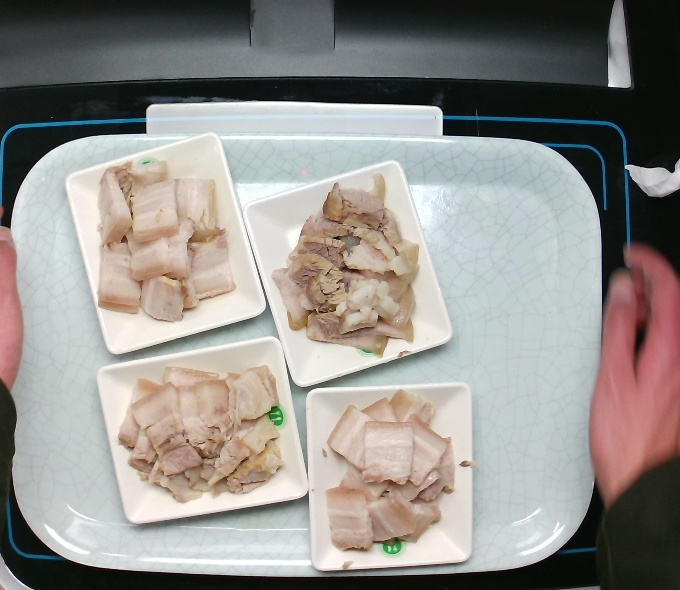wcq-BaiQieRou: (119, 359, 282, 501), (267, 195, 430, 337), (82, 171, 245, 313), (313, 405, 462, 555)
